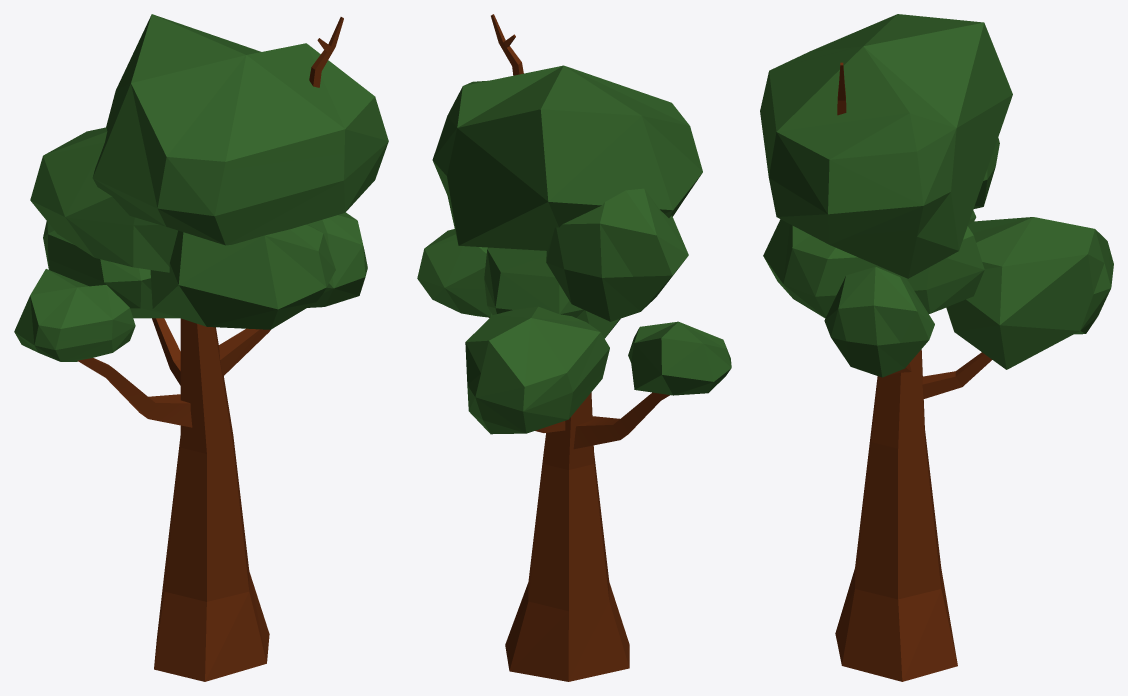
Rendered from Tree3_high.glb.
3 views of the same model, side by side, from view 1: azimuth 30°, elevation 25°; view 2: azimuth 150°, elevation 25°; view 3: azimuth 270°, elevation 25° (orthographic). The views are drawn at different scales.
Visible parts, largest first — view 1: Tree_temp_climate_003, Tree_temp_climate_003.001; view 2: Tree_temp_climate_003, Tree_temp_climate_003.001; view 3: Tree_temp_climate_003, Tree_temp_climate_003.001.
Part boxes in pixels (x1,y1,x2,y2): Tree_temp_climate_003: (14,14,388,361); Tree_temp_climate_003.001: (77,17,343,681); Tree_temp_climate_003: (417,65,731,434); Tree_temp_climate_003.001: (489,14,669,681); Tree_temp_climate_003: (760,14,1113,377); Tree_temp_climate_003.001: (835,62,991,681).
Bounding box in the file's own units: 2.57 × 4.82 × 2.42.
